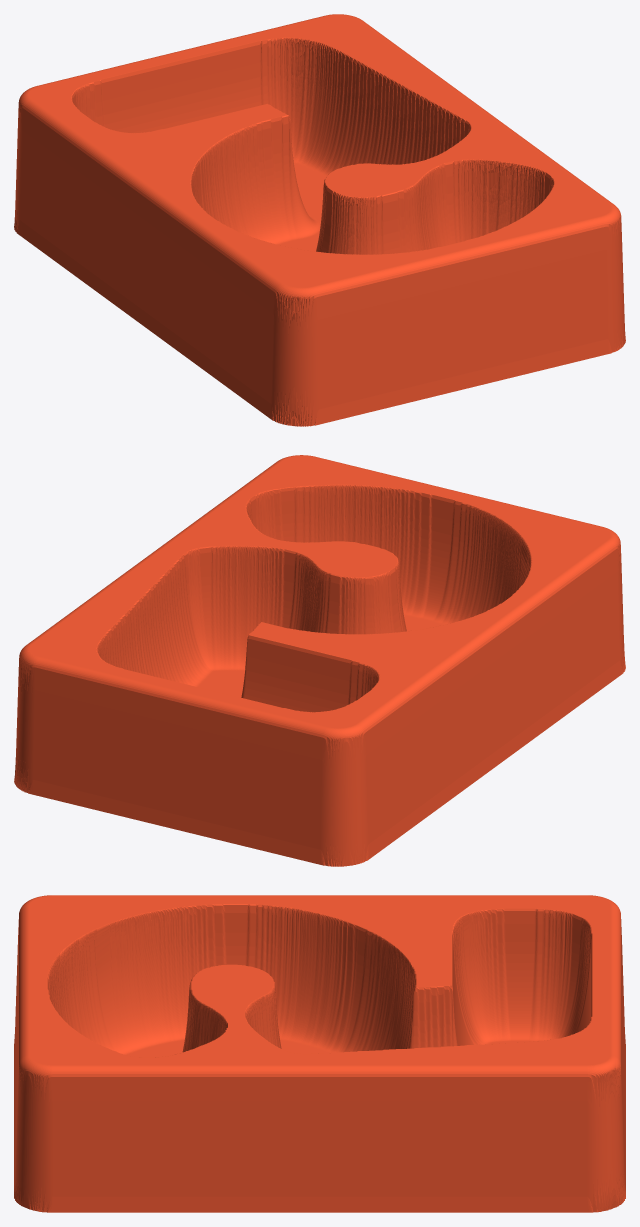
File: mold.glb
The picture shows the model from 3 angles, top to bottom: view 1: azimuth 30°, elevation 25°; view 2: azimuth 150°, elevation 25°; view 3: azimuth 270°, elevation 25°; orthographic projection. The views are drawn at different scales.
Visible parts, largest first — view 1: geometry_0; view 2: geometry_0; view 3: geometry_0.
Boxes of the visible parts, left/top/right/bottom form: geometry_0: left=14, top=14, right=625, bottom=426; geometry_0: left=14, top=455, right=625, bottom=866; geometry_0: left=14, top=895, right=625, bottom=1212.
Bounding box in the file's own units: 0.101 × 0.0365 × 0.1435.
